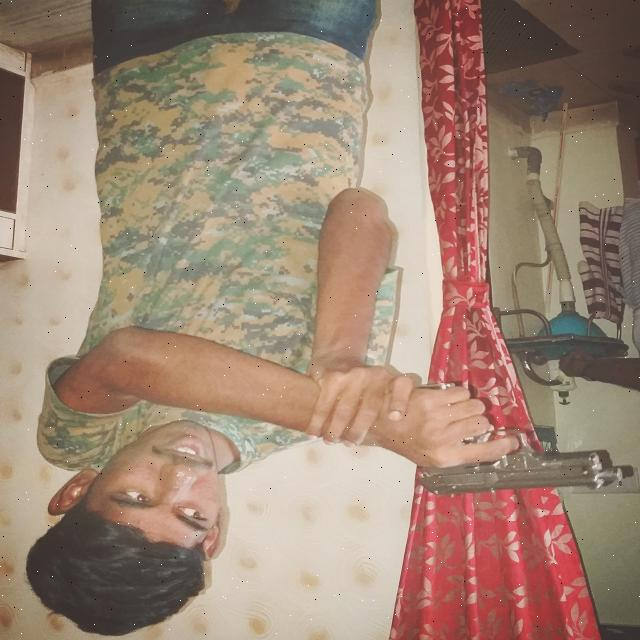gun: (395, 375, 636, 511)
